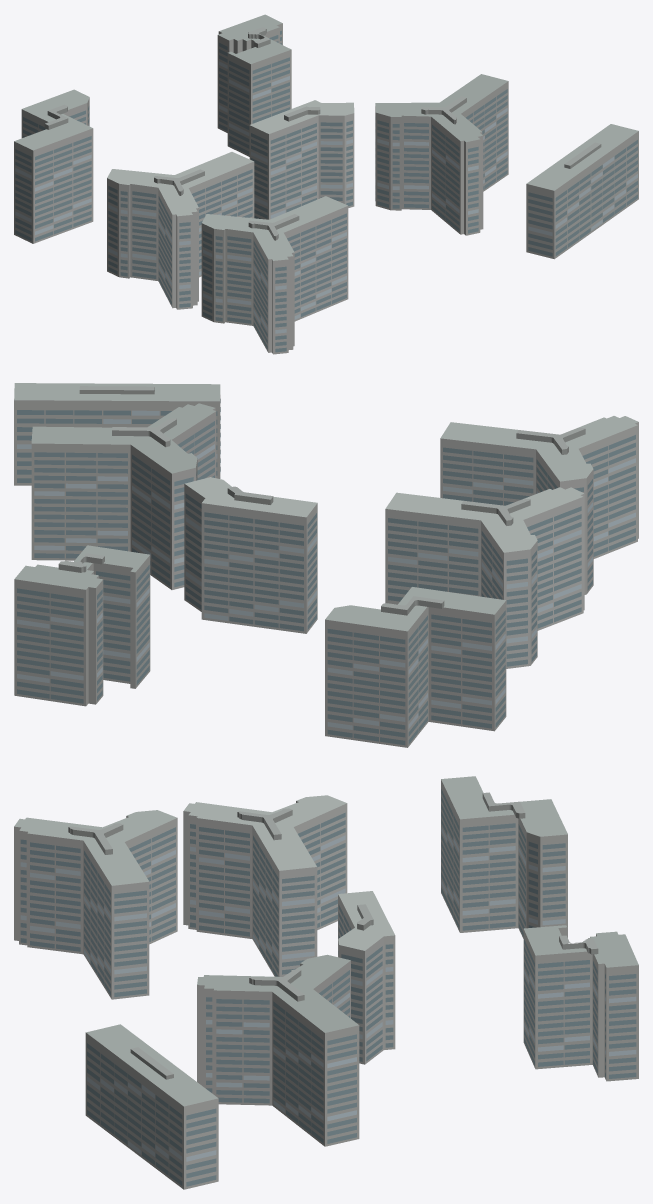
File: apt-a13980017.glb
3 views of the same model, one above another, from view 1: azimuth 30°, elevation 25°; view 2: azimuth 150°, elevation 25°; view 3: azimuth 270°, elevation 25° (orthographic). The views are drawn at different scales.
Visible parts, largest first — view 1: apt-a13980017; view 2: apt-a13980017; view 3: apt-a13980017.
Part boxes in pixels (box(x1,y1,x2,y2)): apt-a13980017: box(14, 14, 638, 354); apt-a13980017: box(14, 383, 638, 747); apt-a13980017: box(14, 776, 638, 1189).
Bounding box in the file's own units: 221 × 41 × 195.
